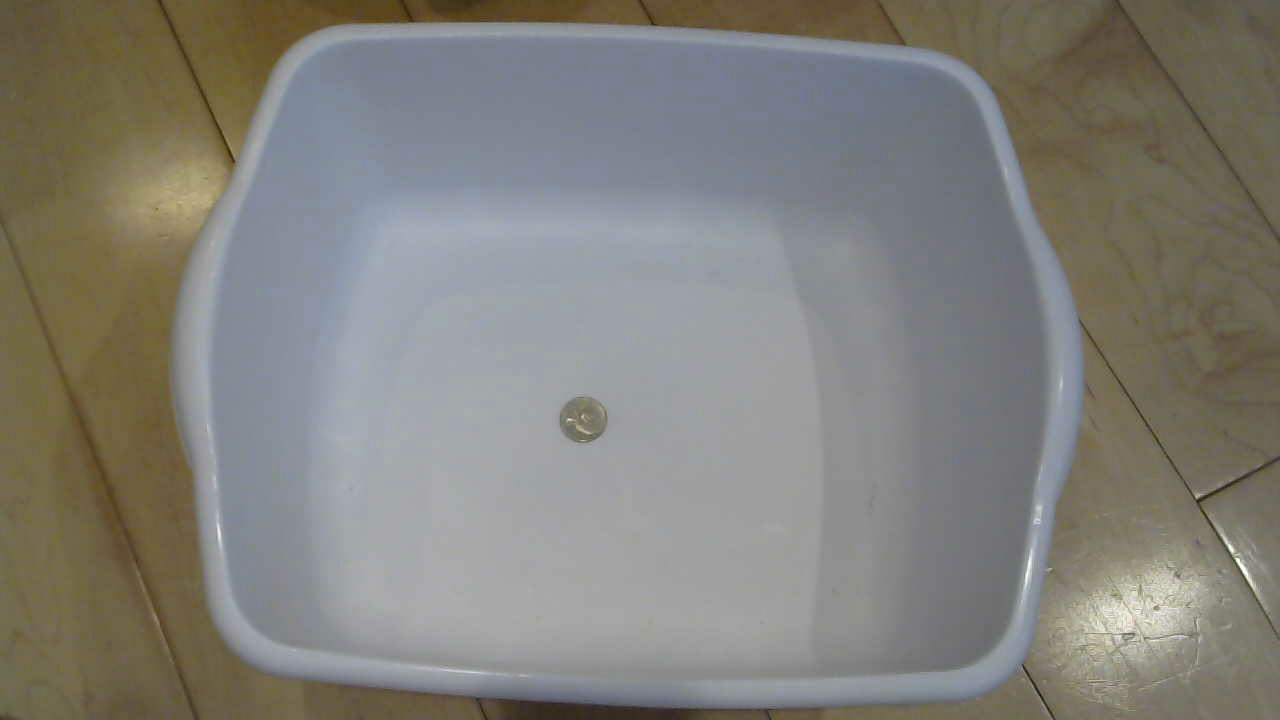coin: (553, 394, 618, 453)
